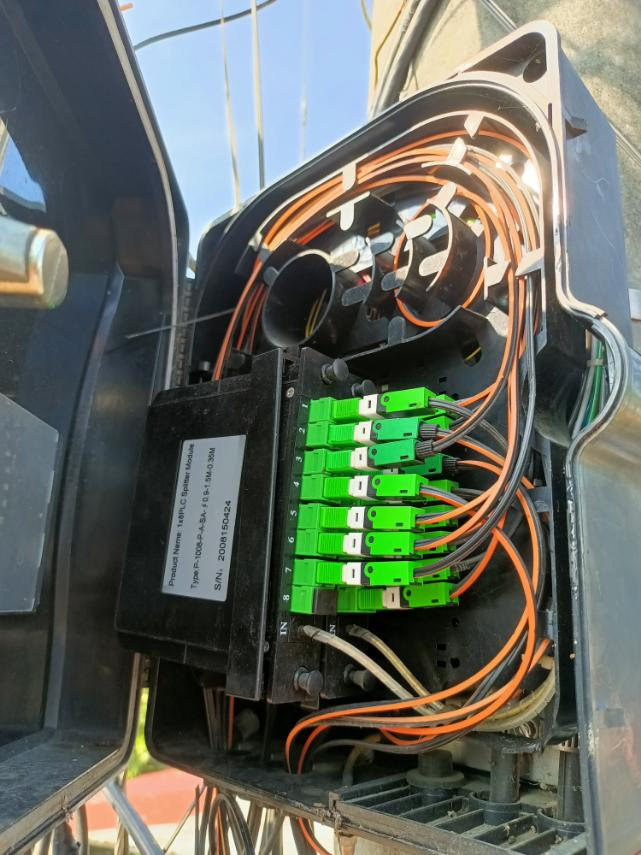occupied: (332, 383, 441, 422), (330, 436, 430, 476), (323, 472, 432, 502), (331, 416, 439, 446), (368, 393, 458, 428), (358, 556, 459, 587), (315, 559, 426, 587), (363, 450, 462, 481), (358, 584, 460, 614), (367, 527, 461, 558), (321, 504, 424, 532), (366, 502, 462, 532), (371, 412, 457, 444), (317, 530, 418, 557), (364, 477, 461, 505)
vacant: (312, 587, 339, 616)
